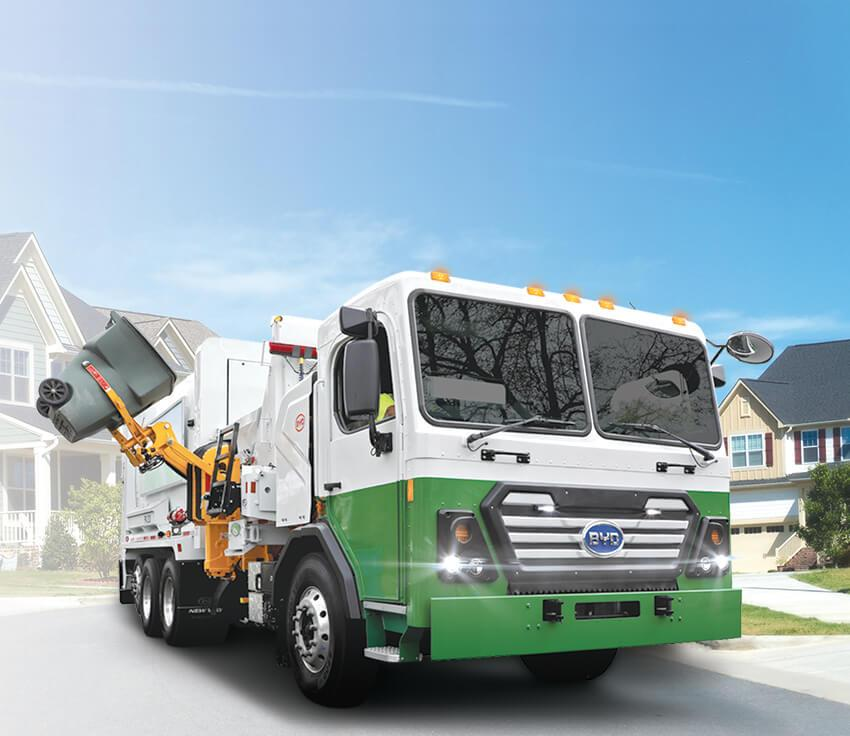truck: (119, 270, 772, 709)
